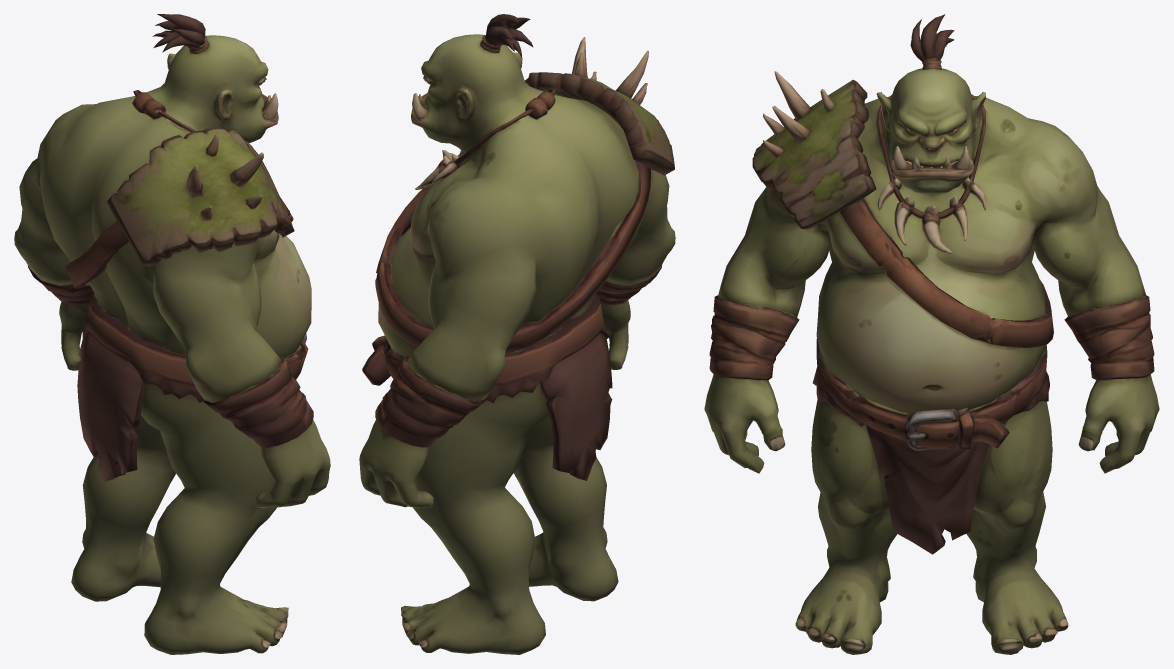
Rendered from ogre_tripo.glb.
3 views of the same model, side by side, from view 1: azimuth 30°, elevation 25°; view 2: azimuth 150°, elevation 25°; view 3: azimuth 270°, elevation 25° (orthographic).
Parts seen in each view (by area): view 1: tripo_node_5cf508b6-84cc-45c7-804d-e8a686bc29aa; view 2: tripo_node_5cf508b6-84cc-45c7-804d-e8a686bc29aa; view 3: tripo_node_5cf508b6-84cc-45c7-804d-e8a686bc29aa.
Part boxes in pixels (left/top/right/bottom): tripo_node_5cf508b6-84cc-45c7-804d-e8a686bc29aa: left=14, top=14, right=330, bottom=654; tripo_node_5cf508b6-84cc-45c7-804d-e8a686bc29aa: left=359, top=14, right=675, bottom=654; tripo_node_5cf508b6-84cc-45c7-804d-e8a686bc29aa: left=704, top=14, right=1159, bottom=654.
Size of the model in its own units: 0.3926 by 0.998 by 0.6816.
1 material, 1 textured.
